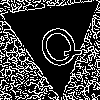Q: (28, 13, 85, 76)
